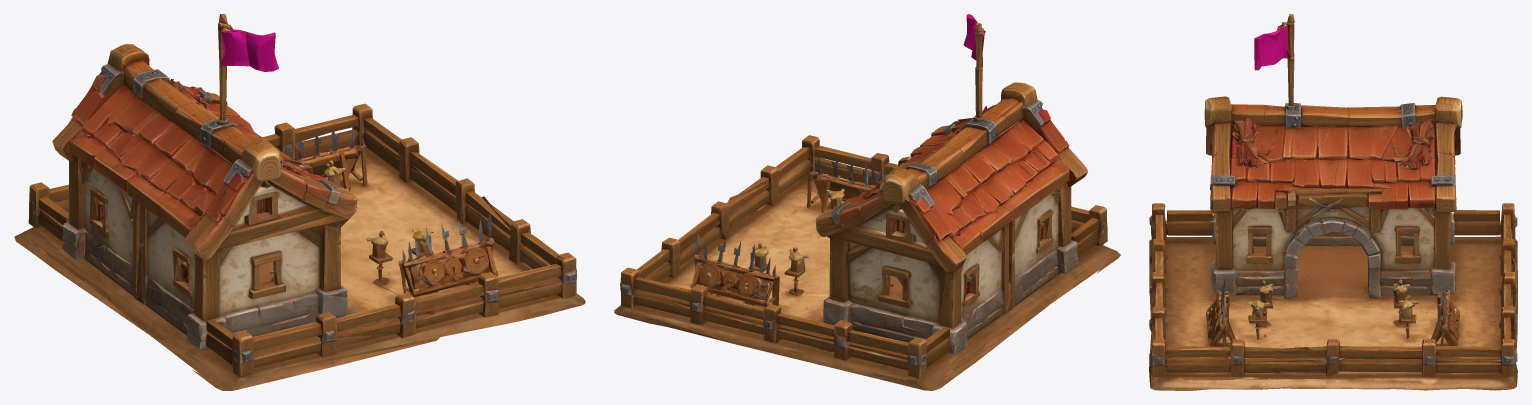
The model's file is barracks.glb.
The picture shows the model from 3 angles, left to right: view 1: azimuth 30°, elevation 25°; view 2: azimuth 150°, elevation 25°; view 3: azimuth 270°, elevation 25°; orthographic projection. The views are drawn at different scales.
Visible parts, largest first — view 1: Mesh_0; view 2: Mesh_0; view 3: Mesh_0.
Boxes of the visible parts, x1,y1,x2,y2 form: Mesh_0: (14,14,585,390); Mesh_0: (614,14,1120,390); Mesh_0: (1149,14,1517,390).
Bounding box in the file's own units: 1.88 × 1.46 × 1.9.
Materials: 1 (1 with a texture image).
